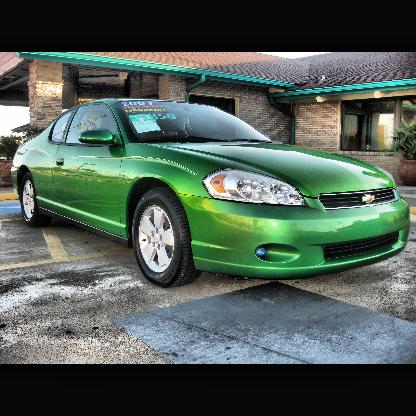Chevrolet Monte Carlo Coupe 2007: (12, 99, 411, 289)
